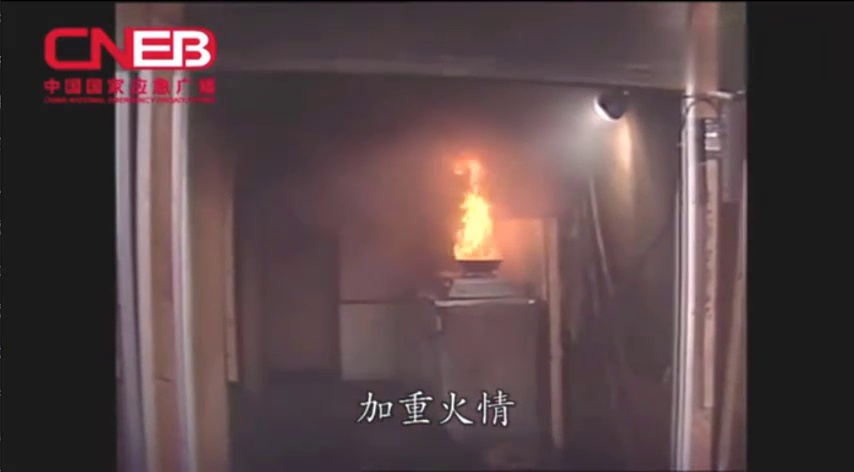fire: (434, 147, 508, 270)
